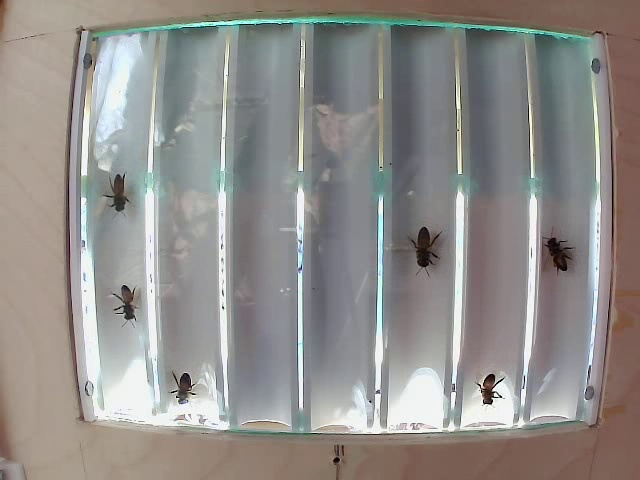bee: (97, 163, 147, 220), (522, 219, 572, 275), (398, 214, 440, 269), (472, 356, 511, 408), (106, 285, 152, 327), (172, 355, 202, 411)
